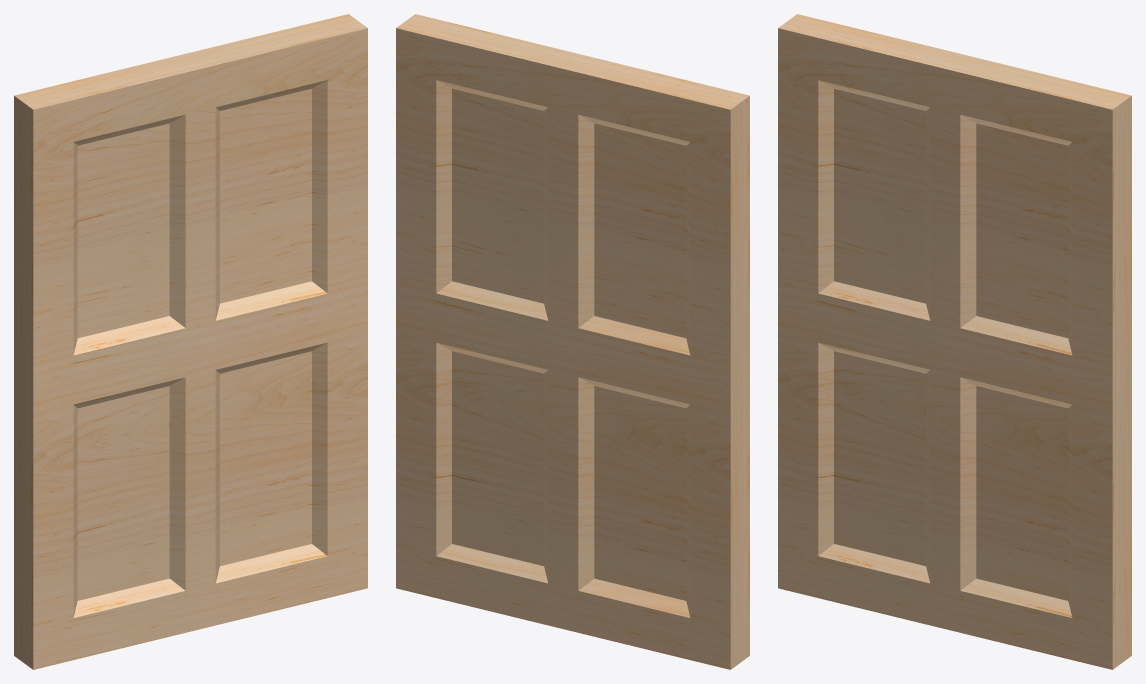
Rendered from door.obj.
3 views of the same model, side by side, from view 1: azimuth 30°, elevation 25°; view 2: azimuth 150°, elevation 25°; view 3: azimuth 330°, elevation 25° (orthographic).
Visible parts, largest first — view 1: |door|Root|satin_finished_maple_2d; view 2: |door|Root|satin_finished_maple_2d; view 3: |door|Root|satin_finished_maple_2d.
Boxes of the visible parts, box(x1,y1,x2,y2) form: |door|Root|satin_finished_maple_2d: box(14, 14, 367, 669); |door|Root|satin_finished_maple_2d: box(396, 14, 749, 669); |door|Root|satin_finished_maple_2d: box(778, 14, 1131, 669).
Size of the model in its own units: 0.1 by 0.16 by 0.01.
Materials: 1 (1 with a texture image).
